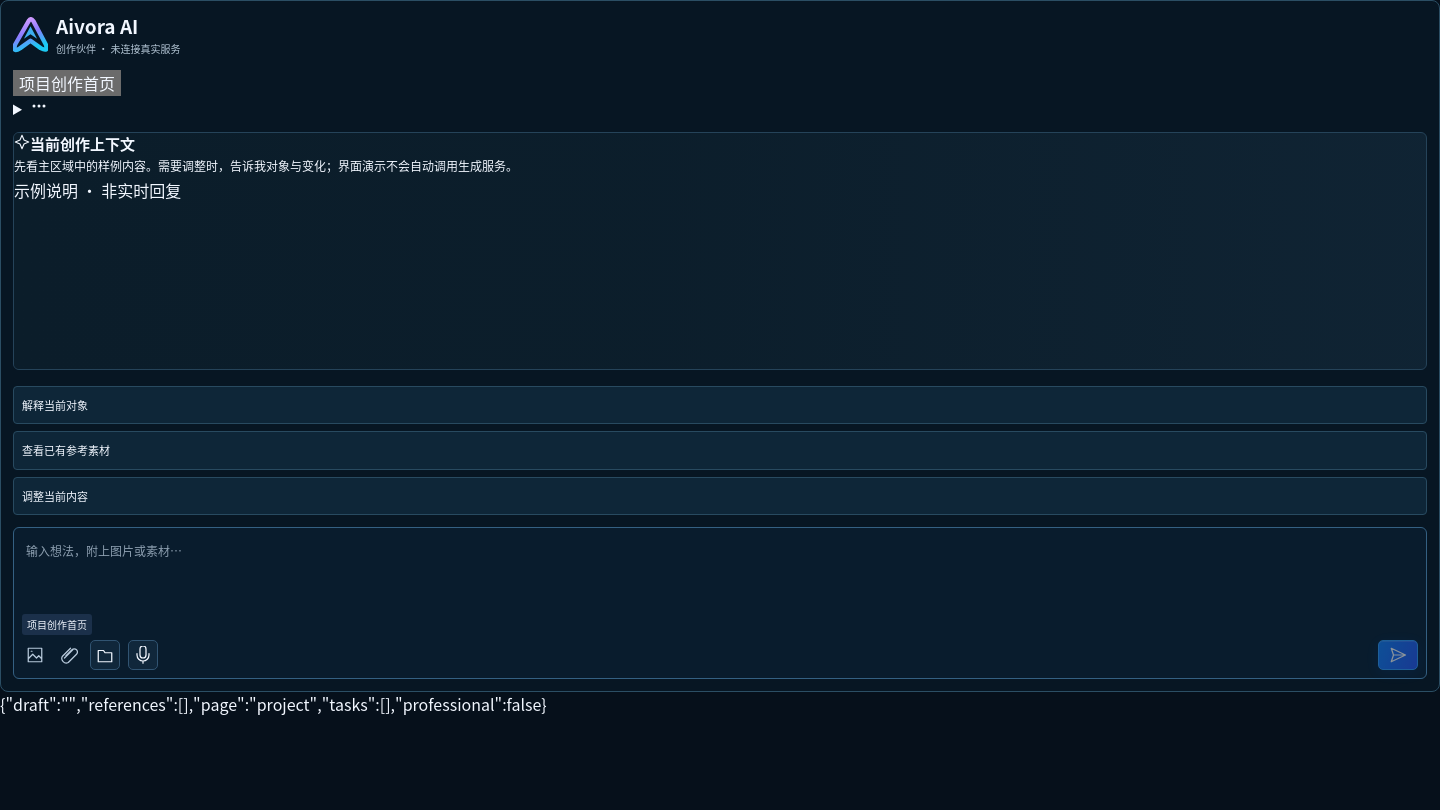
it: C19 assistant real interaction boundaries › opens the honest microphone boundary instead of requesting audio access
This screenshot has width=1440, height=810.
Step 1. Click the button named "语音输入暂未接入" → (143, 655), box left=128, top=640, right=158, bottom=670
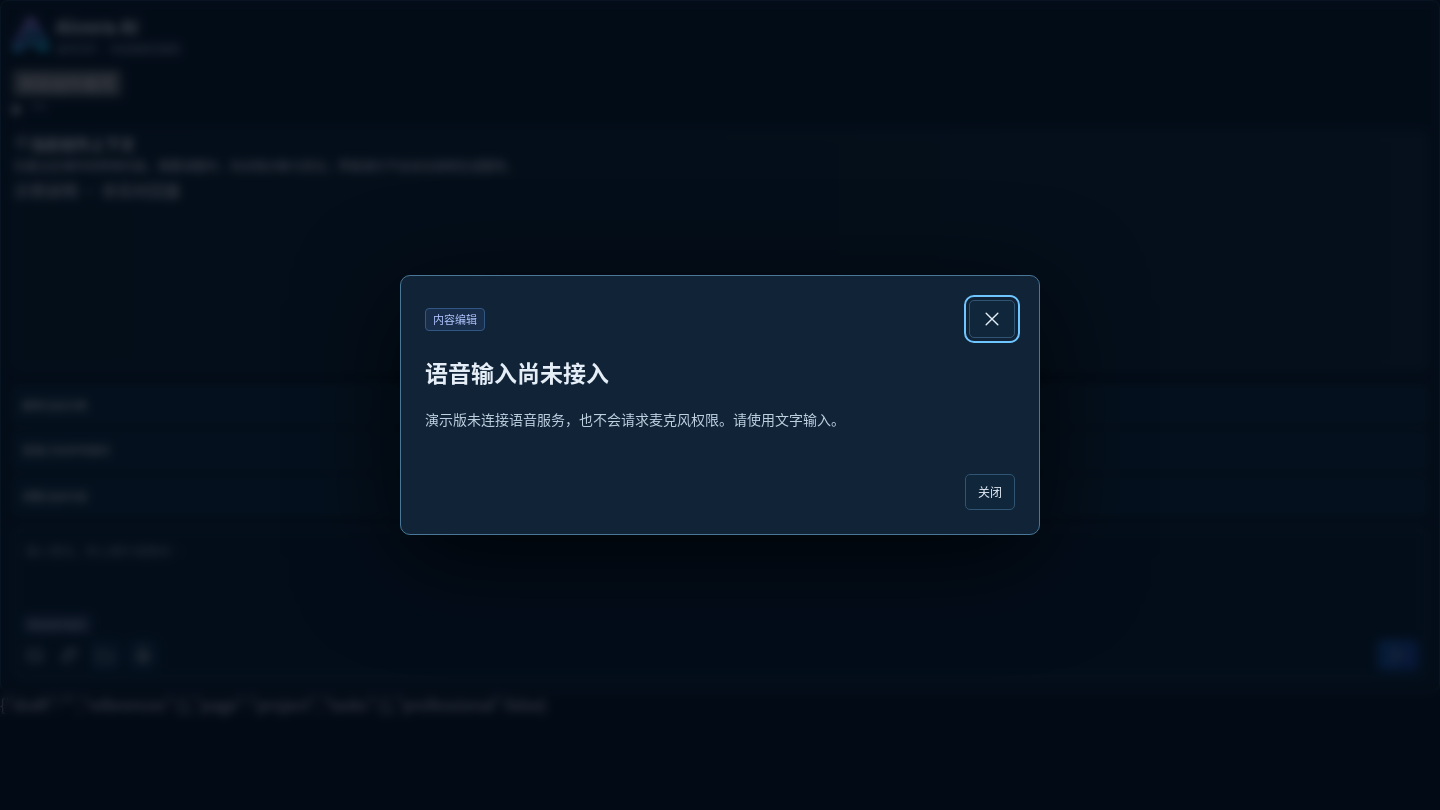
Now the dialog shows "演示版未连接语音服务，也不会请求麦克风权限", box left=425, top=408, right=845, bottom=428
